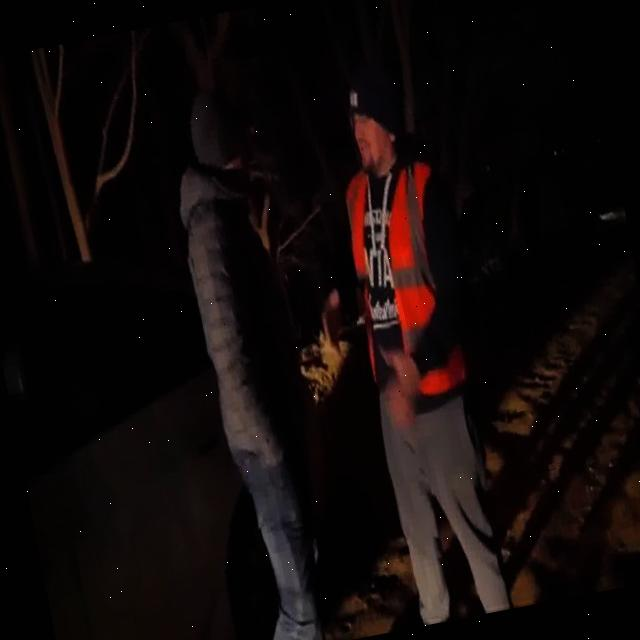vest: (334, 154, 471, 407)
